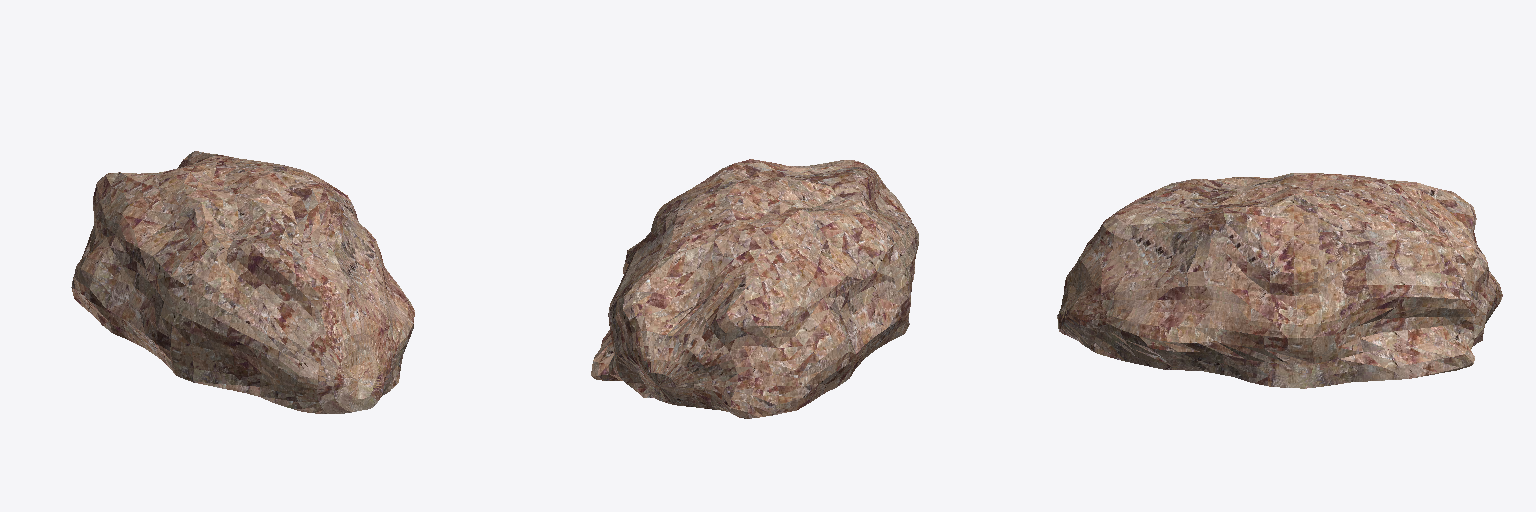
3 renders of one model, left to right at view 1: azimuth 30°, elevation 25°; view 2: azimuth 150°, elevation 25°; view 3: azimuth 270°, elevation 25°, orthographic.
Visible parts, largest first — view 1: Mesh1 Group1 Model; view 2: Mesh1 Group1 Model; view 3: Mesh1 Group1 Model.
Boxes of the visible parts, x1=… form: Mesh1 Group1 Model: x1=71, y1=151, x2=414, y2=413; Mesh1 Group1 Model: x1=591, y1=159, x2=918, y2=418; Mesh1 Group1 Model: x1=1057, y1=173, x2=1502, y2=388.
Bounding box in the file's own units: 0.0968 × 0.0542 × 0.1504.
Materials: 1 (1 with a texture image).